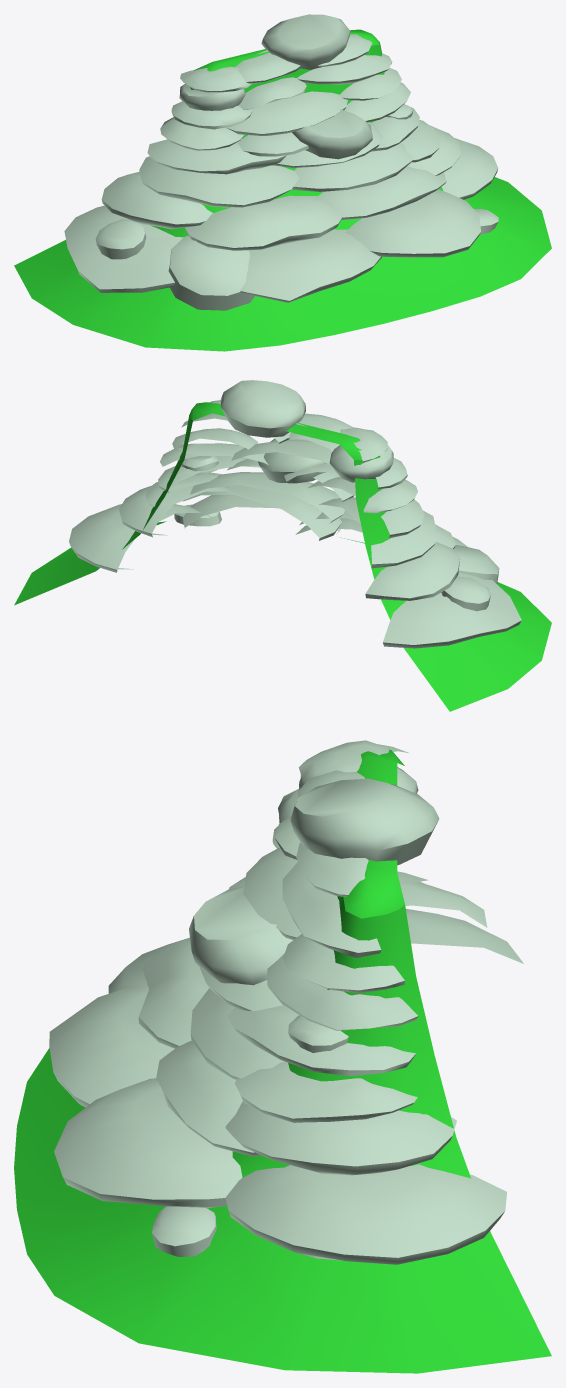
The model's file is Biome_1_Water_Edge_3.glb.
3 views of the same model, one above another, from view 1: azimuth 30°, elevation 25°; view 2: azimuth 150°, elevation 25°; view 3: azimuth 270°, elevation 25° (orthographic). The views are drawn at different scales.
Visible parts, largest first — view 1: Biome_1_Water_Edge_3; view 2: Biome_1_Water_Edge_3; view 3: Biome_1_Water_Edge_3.
Part boxes in pixels (x1,y1,x2,y2): Biome_1_Water_Edge_3: [14, 14, 551, 351]; Biome_1_Water_Edge_3: [14, 380, 551, 711]; Biome_1_Water_Edge_3: [14, 740, 551, 1373].
Size of the model in its own units: 3.11 by 1.4 by 1.72.
